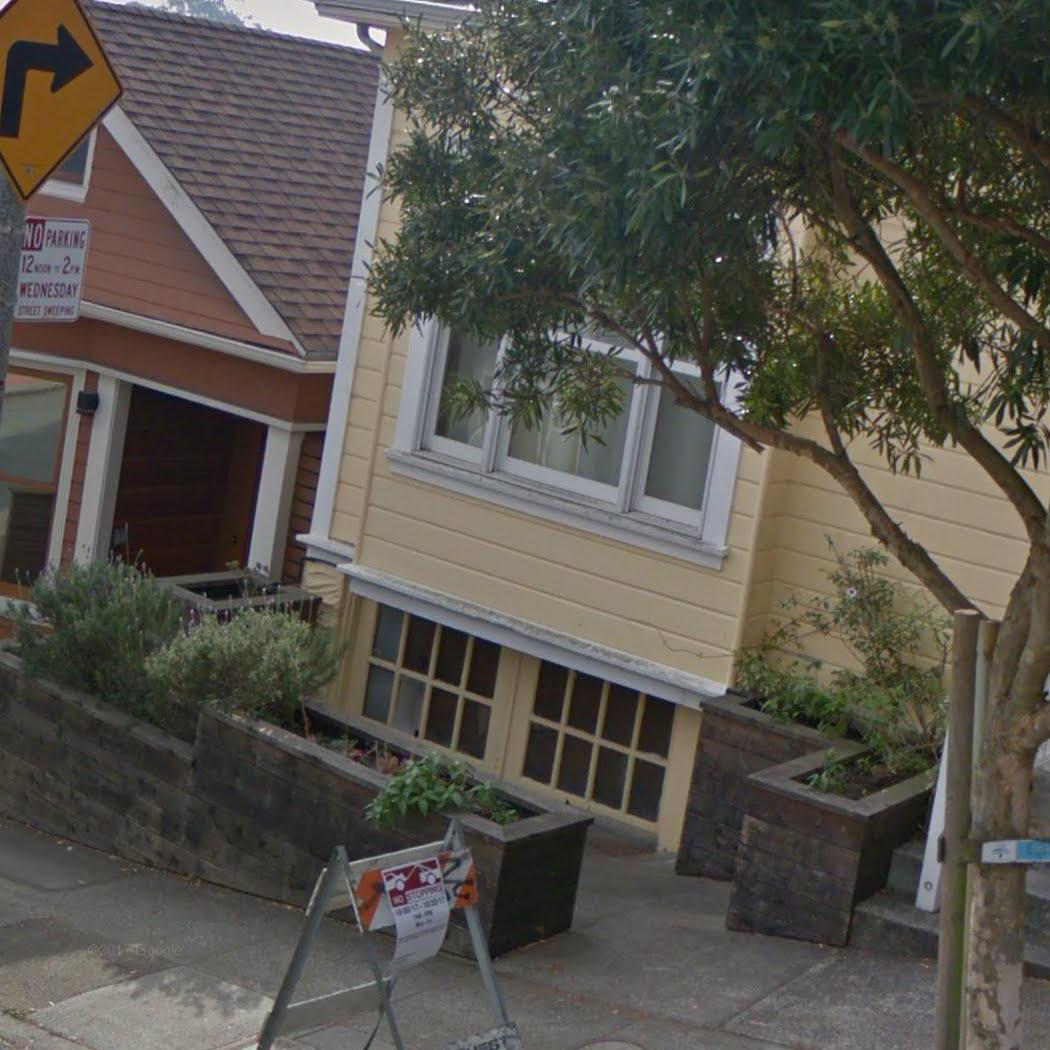No Parking: (21, 212, 85, 324)
